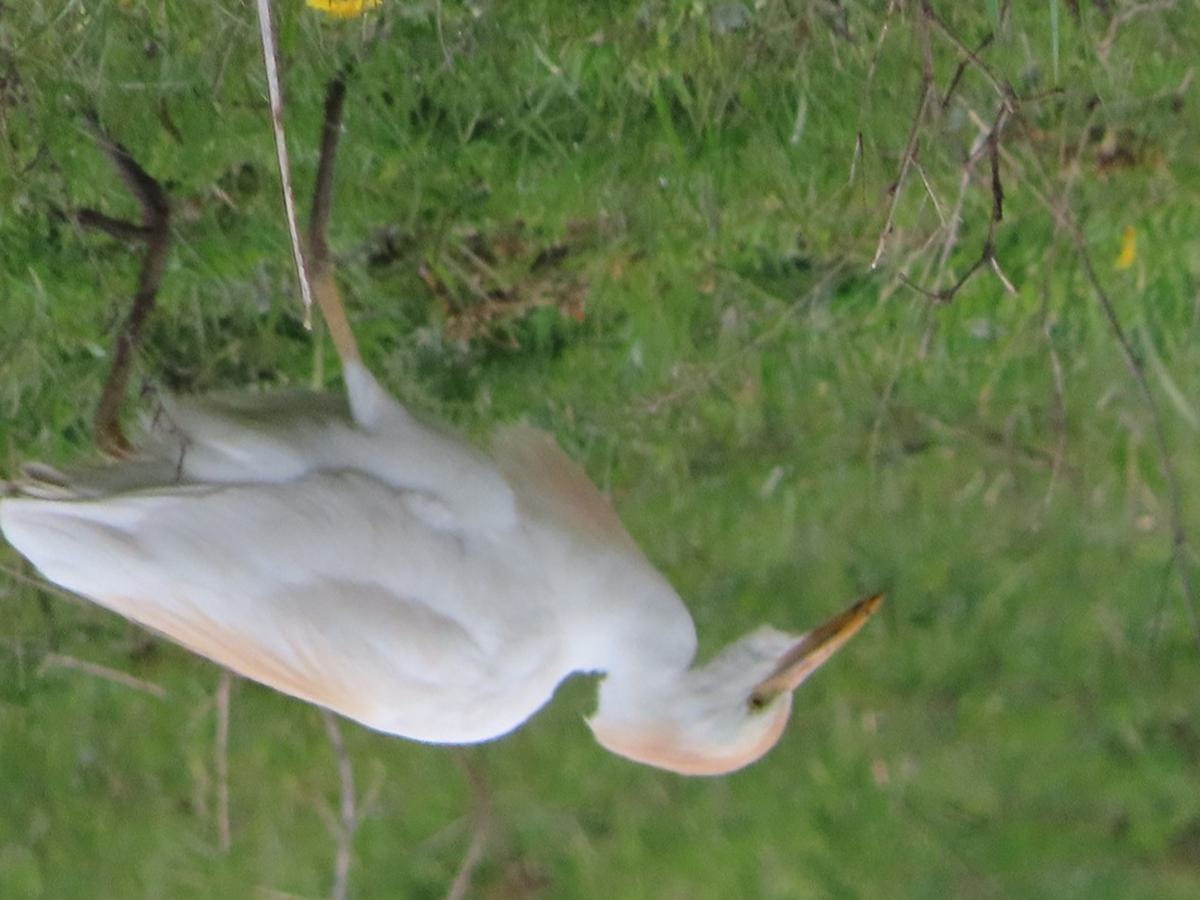egret: (1, 126, 894, 797)
